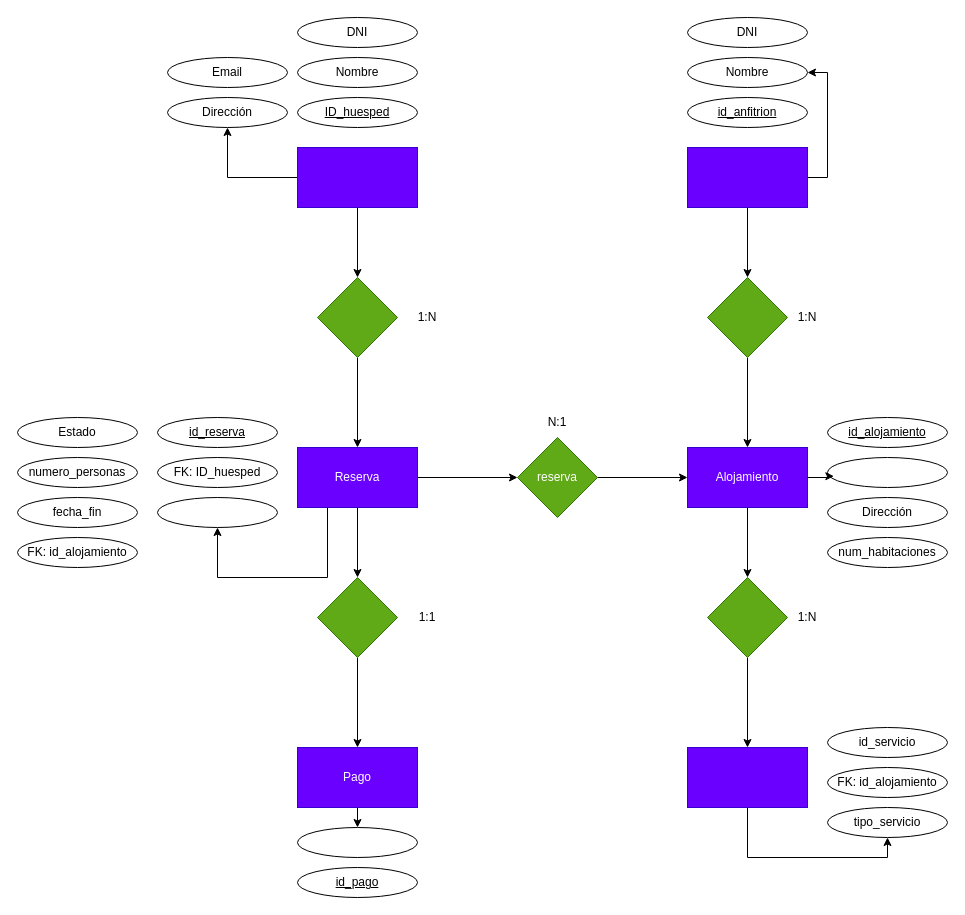
This 965x915 diagram has some shape labels left out. The centre of each missing label's shape, as x and y in pixels:
alquila: the point at 747,317
Anfitrión: the point at 747,177
fecha_inicio: the point at 217,512
FK: id_anfitrion: the point at 887,472
Huesped: the point at 357,177
Importe: the point at 357,842
ofrece: the point at 747,617
realiza: the point at 357,317
Servicio: the point at 747,777
tiene: the point at 357,617
